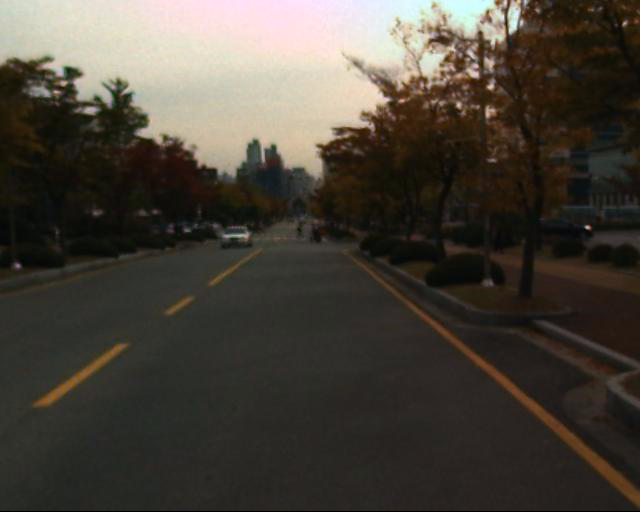person: (489, 218, 511, 264)
